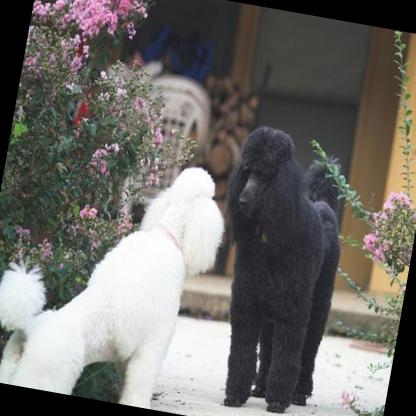standard_poodle: (0, 132, 235, 414), (189, 117, 359, 416)
